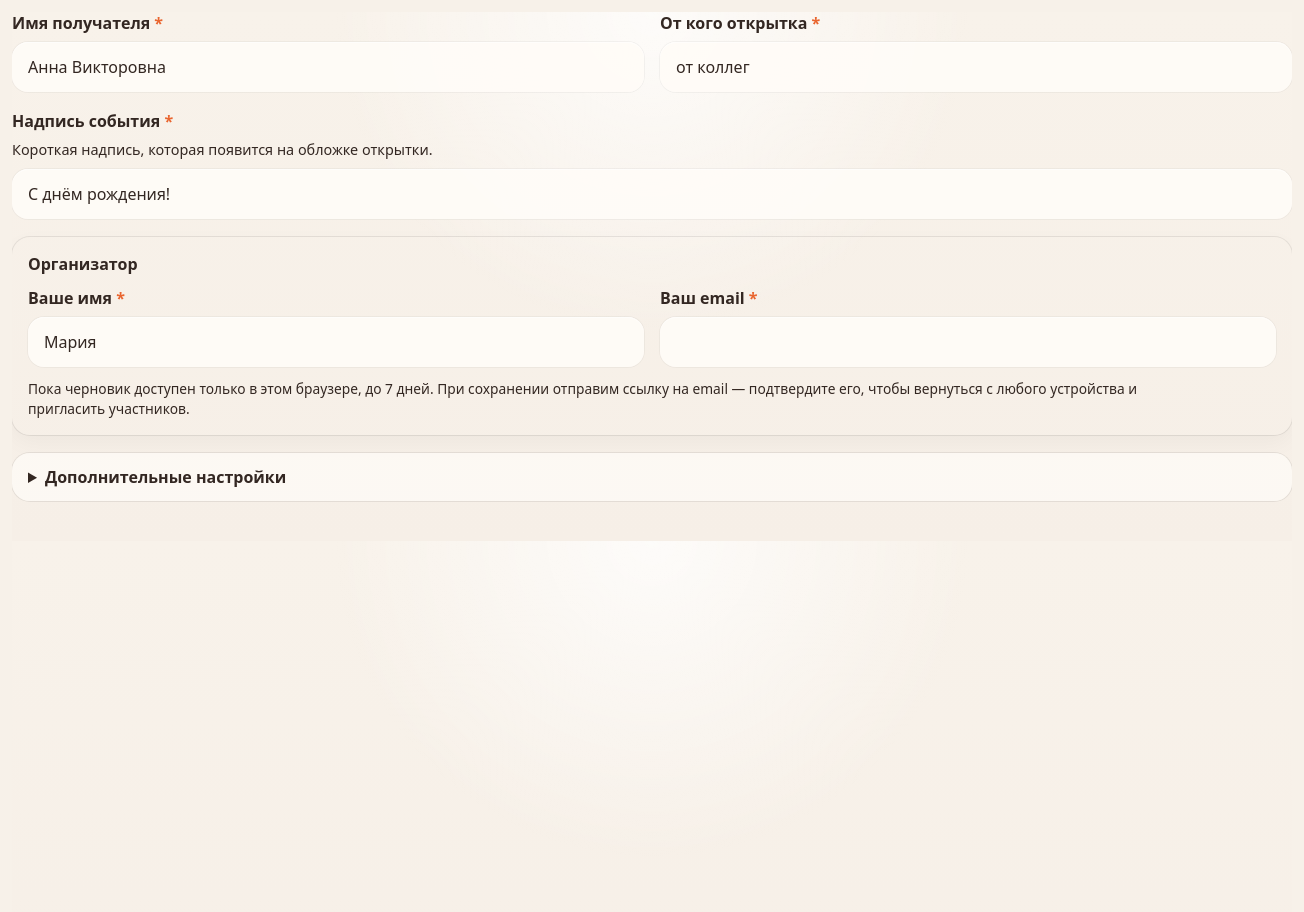
Scenario: BasicsSettingsForm mobile summary › retries a failed guest confirmation through the initial claim action
This screenshot has width=1304, height=912.
Type "guest@example.com" into the field labelled "Ваш email *" at [968, 342], box [660, 317, 1276, 367]
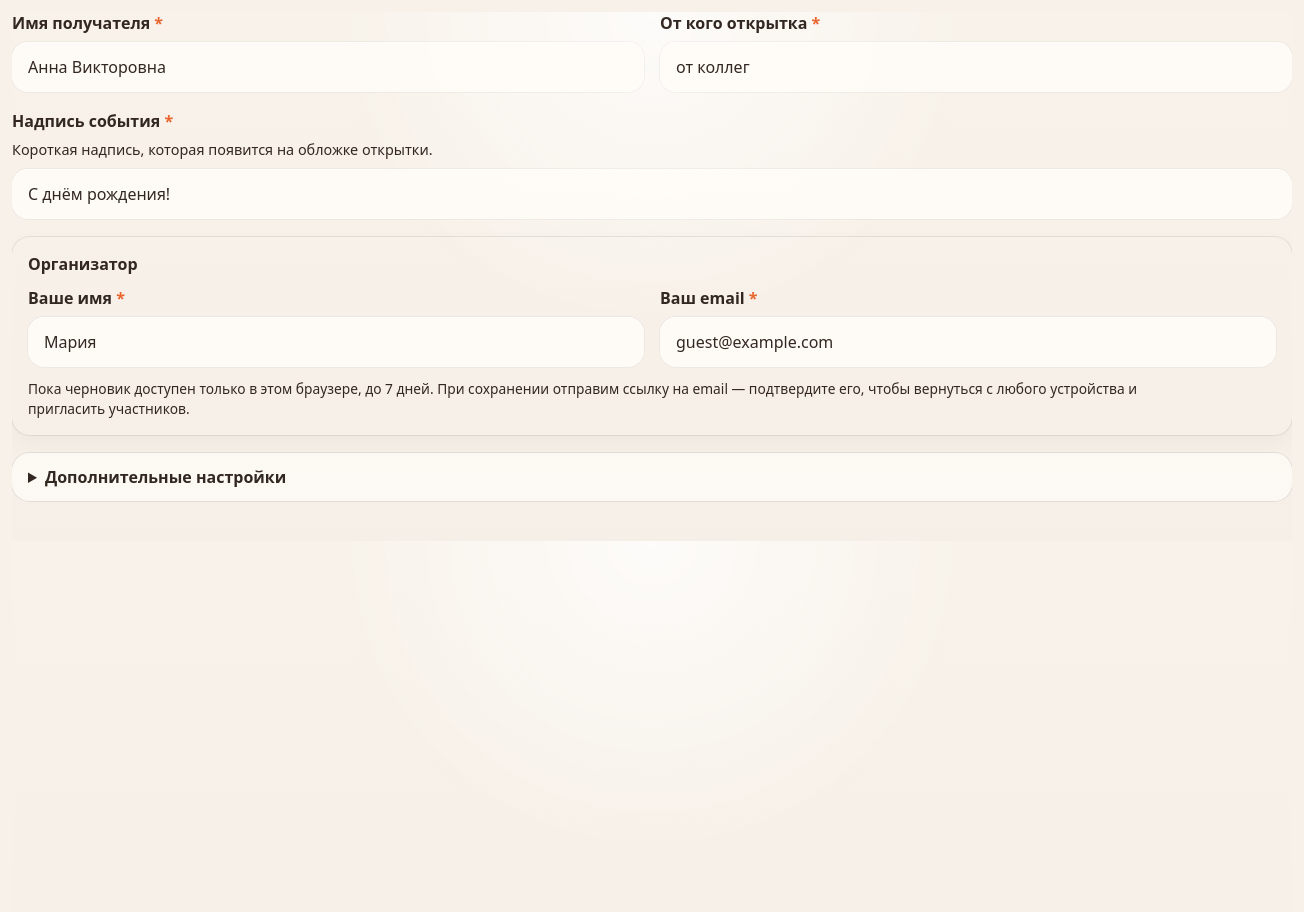
Submit the form named "Ваш email", box [12, 12, 1292, 541]
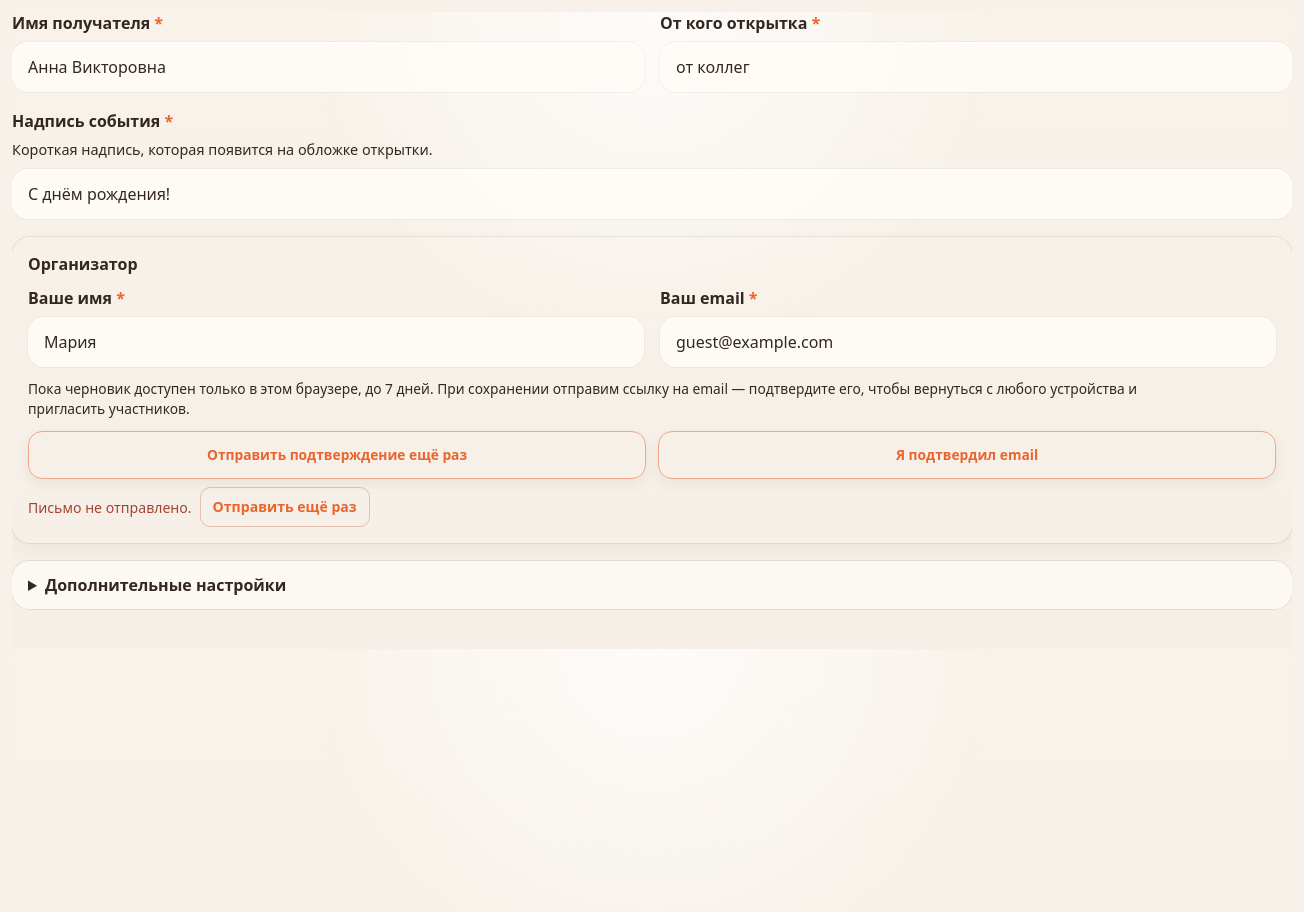
expect the text "Письмо не отправлено." is shown: met, box [28, 497, 192, 516]
Click the button "Отправить ещё раз" at [285, 507], box [200, 487, 370, 527]
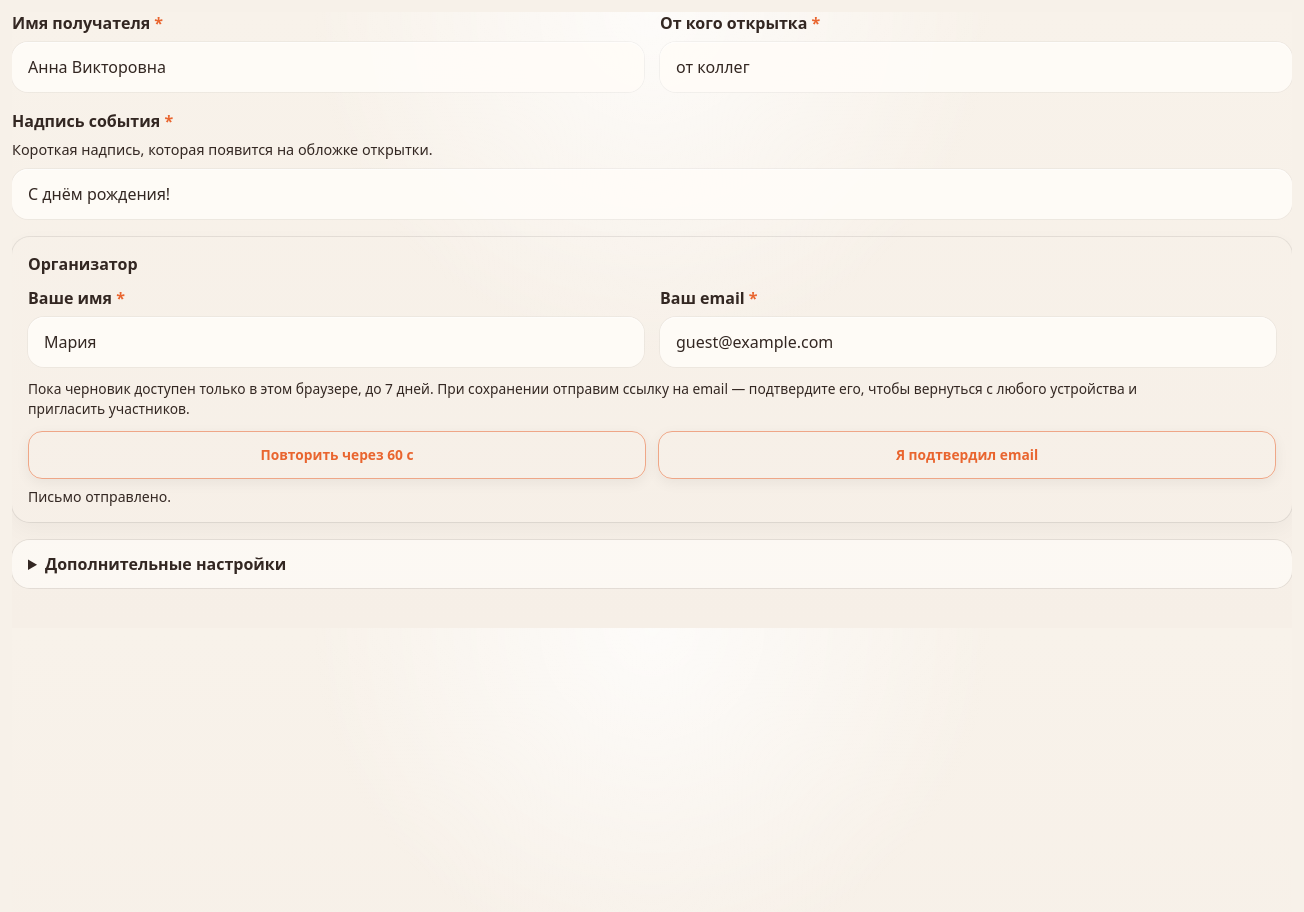
expect the text "Письмо отправлено." is shown: met, box [28, 487, 171, 506]
expect the button "Повторить через 60 с" is disabled: met, box [28, 431, 646, 479]
